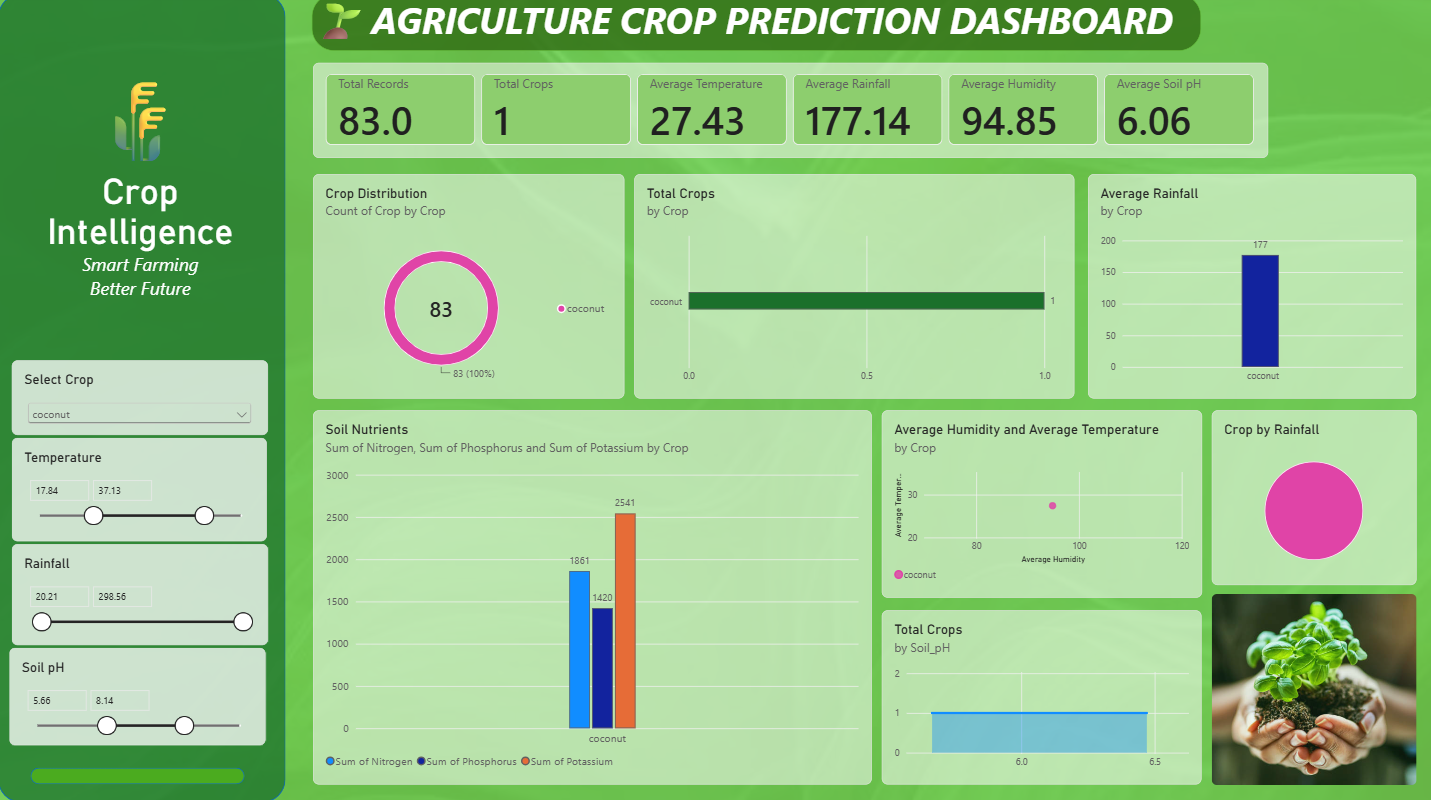

This screenshot's page, from the dashboard's own definition file:
{"tool":"powerbi","page":{"name":"Page 1","canvas":[1920,1080],"ordinal":0},"visuals":[{"type":"shape","box":[0,0,384,1080],"z":0},{"type":"textbox","box":[419.8,0,1187.7,76.2],"z":1000},{"type":"cardVisual","fields":{"Data":["Crop_Data.Total Records","Crop_Data.Total Crops","Crop_Data.Average Temperature","Crop_Data.Average Rainfall","Crop_Data.Average Humidity","Crop_Data.Average Soil pH"]},"box":[420,91.4,1275.7,127.1],"z":2000},{"type":"donutChart","title":"Crop Distribution","fields":{"Category":["Crop_Data.Crop"],"Y":["CountNonNull(Crop_Data.Crop)"]},"box":[420,240,416,300],"z":3000},{"type":"clusteredBarChart","fields":{"Category":["Crop_Data.Crop"],"Y":["Crop_Data.Total Crops"]},"box":[850,240,588,300],"z":4000},{"type":"clusteredColumnChart","title":"Soil Nutrients","fields":{"Category":["Crop_Data.Crop"],"Y":["Sum(Crop_Data.Nitrogen)","Sum(Crop_Data.Phosphorus)","Sum(Crop_Data.Potassium)"]},"box":[420,556,746,500],"z":5000},{"type":"clusteredColumnChart","fields":{"Category":["Crop_Data.Crop"],"Y":["Crop_Data.Average Rainfall"]},"box":[1456,240,438,300],"z":6000},{"type":"scatterChart","fields":{"Series":["Crop_Data.Crop"],"X":["Crop_Data.Average Humidity"],"Y":["Crop_Data.Average Temperature"]},"box":[1180,556,428,250],"z":7000},{"type":"stackedAreaChart","fields":{"Category":["Crop_Data.Soil_pH"],"Y":["Crop_Data.Total Crops"]},"box":[1180,823.8,427.5,232.5],"z":8000},{"type":"slicer","title":"Select Crop","fields":{"Values":["Crop_Data.Crop"]},"box":[18,490,342,100],"z":9000},{"type":"slicer","title":"Temperature","fields":{"Values":["Crop_Data.Temperature"]},"box":[17.8,600,342,128],"z":10000},{"type":"slicer","title":"Rainfall","fields":{"Values":["Crop_Data.Rainfall"]},"box":[17.8,737.8,342.2,126.7],"z":11000},{"type":"slicer","title":"Soil pH","fields":{"Values":["Crop_Data.Soil_pH"]},"box":[15.6,873.3,342.2,130],"z":12000},{"type":"shape","box":[43.8,1033.8,286,22],"z":13000},{"type":"pieChart","title":"Crop by Rainfall","fields":{"Category":["Crop_Data.Crop"],"Series":["Crop_Data.Crop"],"Y":["Sum(Crop_Data.Rainfall)"]},"box":[1621.5,555.6,273.3,233.4],"z":14000},{"type":"image","box":[1621.5,801.7,273.3,255.2],"z":14002},{"type":"textbox","box":[100,100,300,300],"z":14003},{"type":"textbox","box":[30.8,94.1,320.3,363.7],"z":14004}]}

Visuals, with their boxes in screenshot pixels (x1, y1, x2, y2), scaled from the page's 1920x1080 canvas onto the 1431x800 screenshot:
shape: <bbox>0, 0, 286, 799</bbox>
textbox: <bbox>313, 0, 1198, 56</bbox>
cardVisual - Crop_Data.Total Records x Crop_Data.Total Crops: <bbox>313, 68, 1264, 162</bbox>
"Crop Distribution" donutChart: <bbox>313, 178, 623, 400</bbox>
clusteredBarChart - Crop_Data.Crop x Crop_Data.Total Crops: <bbox>634, 178, 1072, 400</bbox>
"Soil Nutrients" clusteredColumnChart: <bbox>313, 412, 869, 782</bbox>
clusteredColumnChart - Crop_Data.Crop x Crop_Data.Average Rainfall: <bbox>1085, 178, 1412, 400</bbox>
scatterChart - Crop_Data.Crop x Crop_Data.Average Humidity: <bbox>879, 412, 1198, 597</bbox>
stackedAreaChart - Crop_Data.Soil_pH x Crop_Data.Total Crops: <bbox>879, 610, 1198, 782</bbox>
"Select Crop" slicer: <bbox>13, 363, 268, 437</bbox>
"Temperature" slicer: <bbox>13, 444, 268, 539</bbox>
"Rainfall" slicer: <bbox>13, 547, 268, 640</bbox>
"Soil pH" slicer: <bbox>12, 647, 267, 743</bbox>
shape: <bbox>33, 766, 246, 782</bbox>
"Crop by Rainfall" pieChart: <bbox>1209, 412, 1412, 584</bbox>
image: <bbox>1209, 594, 1412, 783</bbox>
textbox: <bbox>75, 74, 298, 296</bbox>
textbox: <bbox>23, 70, 262, 339</bbox>
